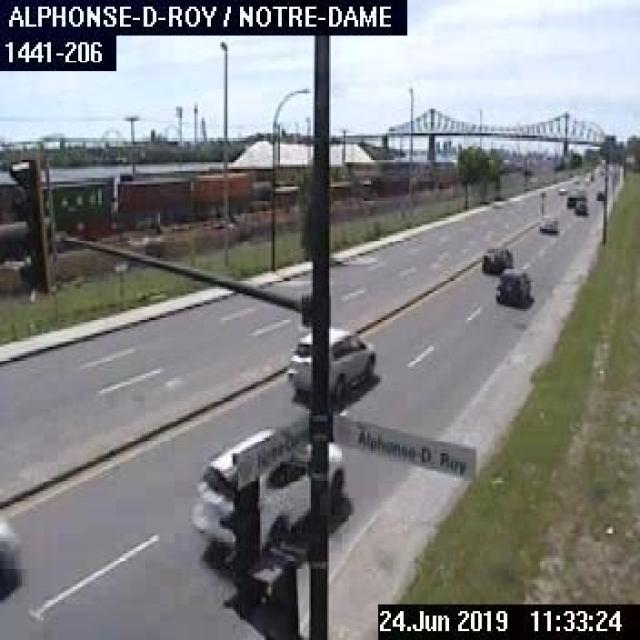vehicle: (188, 427, 344, 551), (284, 322, 378, 402), (0, 507, 22, 602), (495, 268, 533, 306), (478, 241, 514, 274), (535, 211, 558, 233), (572, 196, 589, 214), (593, 185, 602, 202), (555, 182, 566, 195)
